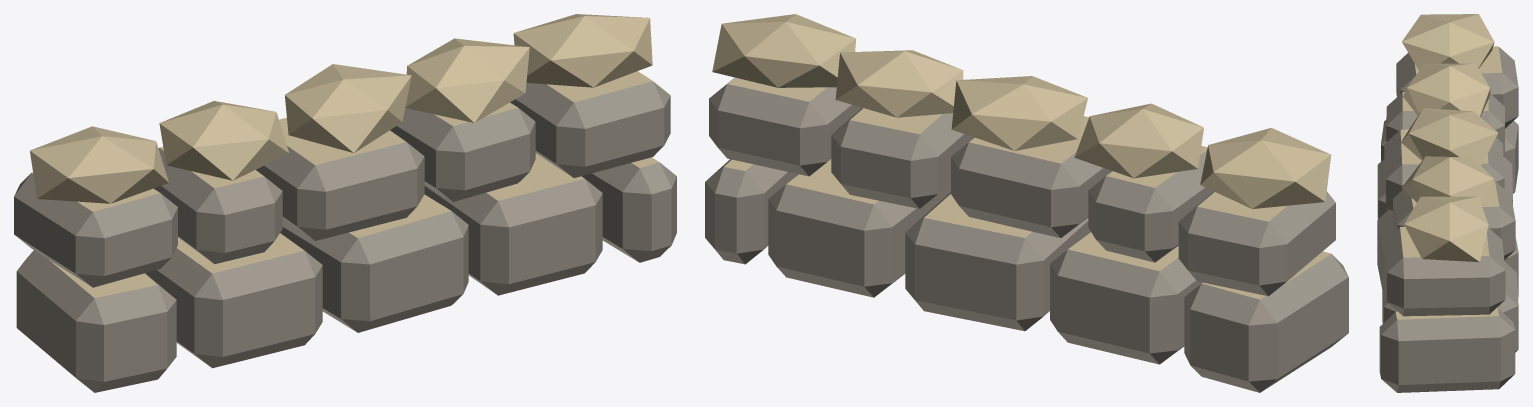
The model's file is StoneFence.fbx.
The picture shows the model from 3 angles, left to right: view 1: azimuth 30°, elevation 25°; view 2: azimuth 150°, elevation 25°; view 3: azimuth 270°, elevation 25°; orthographic projection. The views are drawn at different scales.
Parts seen in each view (by area): view 1: StoneFence; view 2: StoneFence; view 3: StoneFence.
Boxes of the visible parts, <box> form: StoneFence: <box>14,14,676,392</box>; StoneFence: <box>705,14,1348,392</box>; StoneFence: <box>1377,14,1518,392</box>.
Bounding box in the file's own units: 2.03 × 0.7167 × 0.525.
